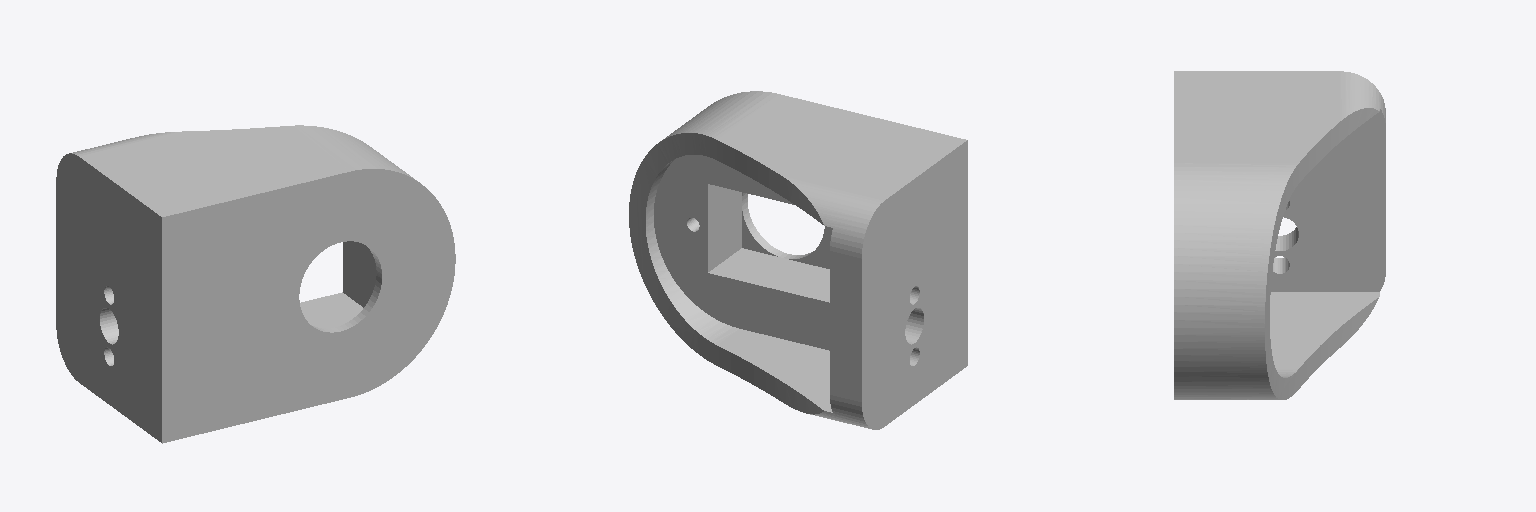
File: wrist_1.obj
3 views of the same model, side by side, from view 1: azimuth 30°, elevation 25°; view 2: azimuth 150°, elevation 25°; view 3: azimuth 270°, elevation 25° (orthographic).
Visible parts, largest first — view 1: fabconvert.com_arm_03_obj; view 2: fabconvert.com_arm_03_obj; view 3: fabconvert.com_arm_03_obj.
Boxes of the visible parts, x1=… form: fabconvert.com_arm_03_obj: x1=56, y1=125, x2=455, y2=443; fabconvert.com_arm_03_obj: x1=629, y1=91, x2=967, y2=429; fabconvert.com_arm_03_obj: x1=1174, y1=71, x2=1385, y2=399.
Bounding box in the file's own units: 0.6552 × 0.4824 × 0.4093.